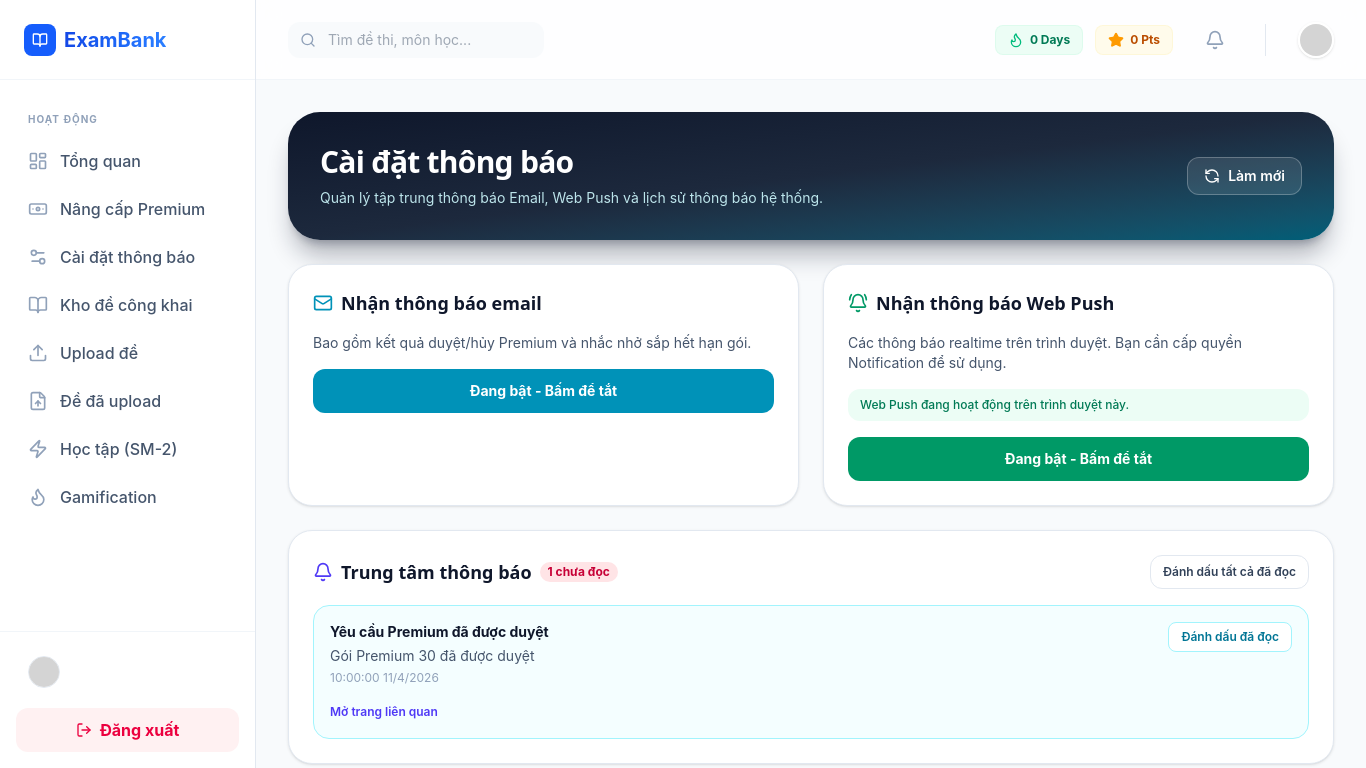
Test case: NotificationSettings page › marks an unread notification when opening related page
expect the text "Yêu cầu Premium đã được duyệt" is shown: met, box [330, 622, 549, 642]
Click the button "Mở trang liên quan": (384, 712) [330, 704, 438, 720]
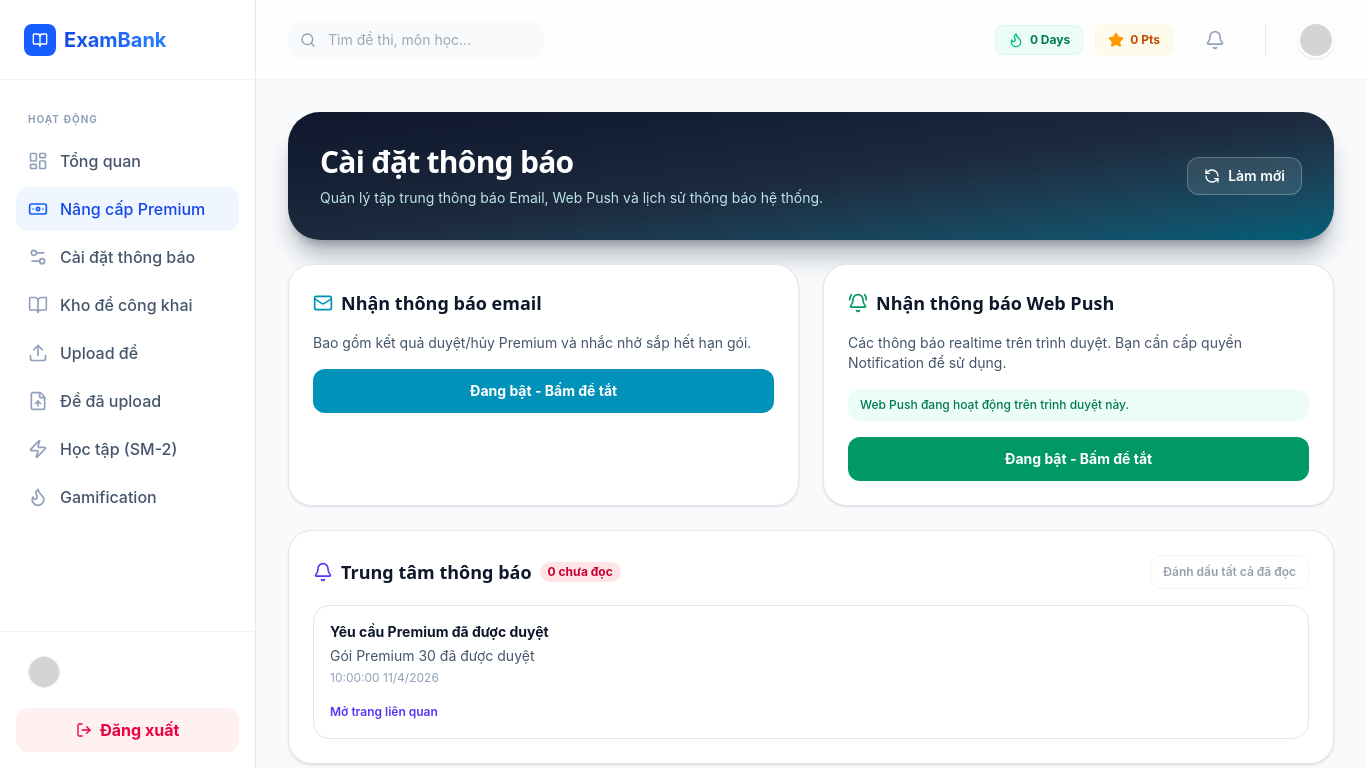
expect the button "Đánh dấu đã đọc" is gone: met
expect the text "0 chưa đọc" is shown: met, box [540, 562, 621, 582]
